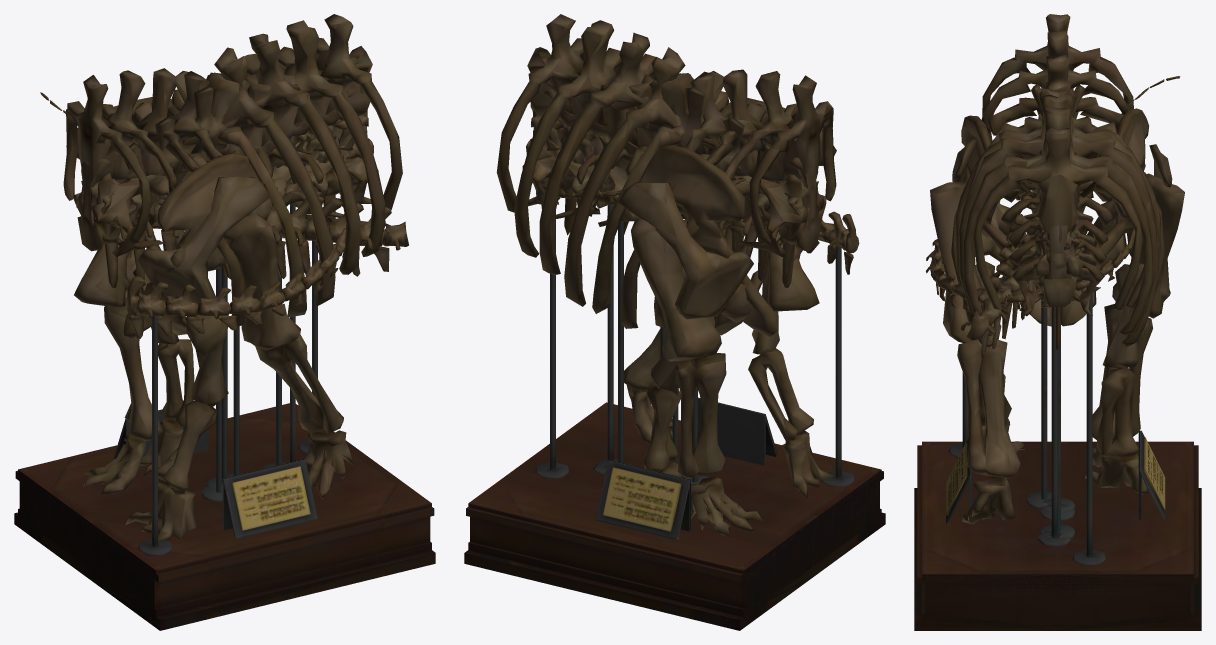
File: fossil-diplo.glb
The picture shows the model from 3 angles, left to right: view 1: azimuth 30°, elevation 25°; view 2: azimuth 150°, elevation 25°; view 3: azimuth 270°, elevation 25°; orthographic projection.
Visible parts, largest first — view 1: mFossilBaseEnd (×2), mFtrFossilDiplodocusC, mFtrFossilDiplodocusD, mFossilBaseMiddle (×4), mFtrFossilDiplodocusF, mFtrFossilDiplodocusE, mFtrFossilDiplodocusB, mFtrFossilDiplodocusA; view 2: mFossilBaseEnd (×2), mFtrFossilDiplodocusC, mFtrFossilDiplodocusD, mFossilBaseMiddle (×2), mFtrFossilDiplodocusB, mFtrFossilDiplodocusE, mFtrFossilDiplodocusF; view 3: mFossilBaseEnd (×2), mFtrFossilDiplodocusD, mFtrFossilDiplodocusC, mFossilBaseMiddle (×4), mFtrFossilDiplodocusB, mFtrFossilDiplodocusE, mFtrFossilDiplodocusF, mFtrFossilDiplodocusA.
Boxes of the visible parts, box(x1,y1,x2,y2) form: mFossilBaseEnd (×2): box(15, 202, 435, 629); mFtrFossilDiplodocusC: box(73, 14, 402, 540); mFtrFossilDiplodocusD: box(63, 68, 378, 499); mFossilBaseMiddle (×4): box(14, 232, 435, 630); mFtrFossilDiplodocusF: box(40, 92, 346, 338); mFtrFossilDiplodocusE: box(80, 158, 408, 287); mFtrFossilDiplodocusB: box(80, 127, 373, 231); mFtrFossilDiplodocusA: box(169, 115, 368, 232); mFossilBaseEnd (×2): box(464, 205, 884, 630); mFtrFossilDiplodocusC: box(496, 14, 832, 514); mFtrFossilDiplodocusD: box(522, 69, 836, 536); mFossilBaseMiddle (×2): box(464, 221, 885, 630); mFtrFossilDiplodocusB: box(526, 127, 822, 231); mFtrFossilDiplodocusE: box(589, 157, 818, 288); mFtrFossilDiplodocusF: box(557, 177, 859, 274); mFossilBaseEnd (×2): box(914, 286, 1201, 630); mFtrFossilDiplodocusD: box(930, 14, 1184, 524); mFtrFossilDiplodocusC: box(951, 83, 1172, 494); mFossilBaseMiddle (×4): box(914, 299, 1201, 630); mFtrFossilDiplodocusB: box(1019, 130, 1096, 316); mFtrFossilDiplodocusE: box(960, 87, 1091, 358); mFtrFossilDiplodocusF: box(926, 76, 1180, 314); mFtrFossilDiplodocusA: box(1019, 190, 1080, 269).
Size of the model in its own units: 20.08 by 34.67 by 18.33.
12 materials, 12 textured.
